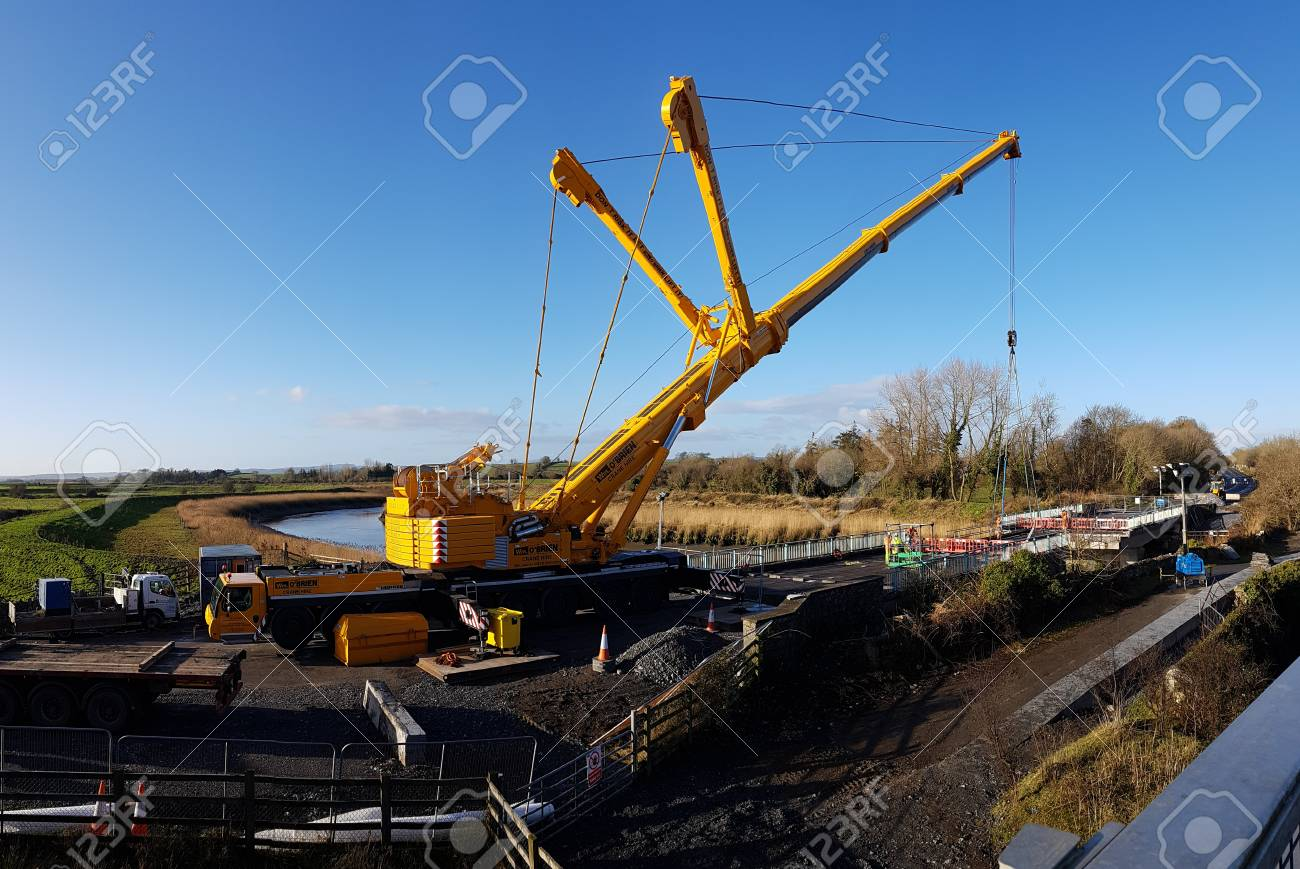crane: (204, 77, 1031, 663)
